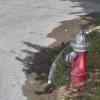Hydrant: (58, 27, 94, 97)
